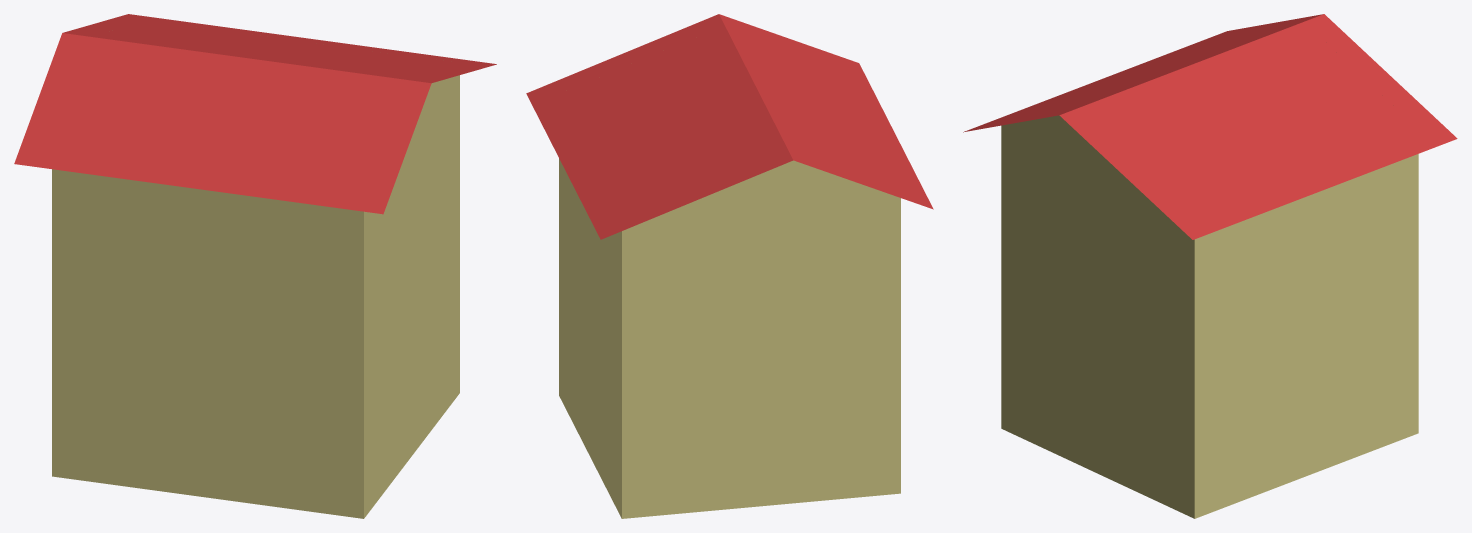
3 views of the same model, side by side, from view 1: azimuth 30°, elevation 25°; view 2: azimuth 150°, elevation 25°; view 3: azimuth 270°, elevation 25° (orthographic). The views are drawn at different scales.
Parts seen in each view (by area): view 1: group_5, group_3, group_4; view 2: group_5, group_3, group_4; view 3: group_5, group_3, group_4.
Boxes of the visible parts, x1,y1,x2,y2 form: group_5: (52, 75, 459, 518); group_3: (14, 20, 458, 214); group_4: (63, 14, 496, 83); group_5: (559, 158, 900, 518); group_3: (559, 14, 933, 217); group_4: (526, 14, 793, 239); group_5: (1001, 115, 1418, 518); group_3: (963, 14, 1417, 235); group_4: (1059, 14, 1457, 239).
Size of the model in its own units: 13.34 by 13.37 by 10.65.
